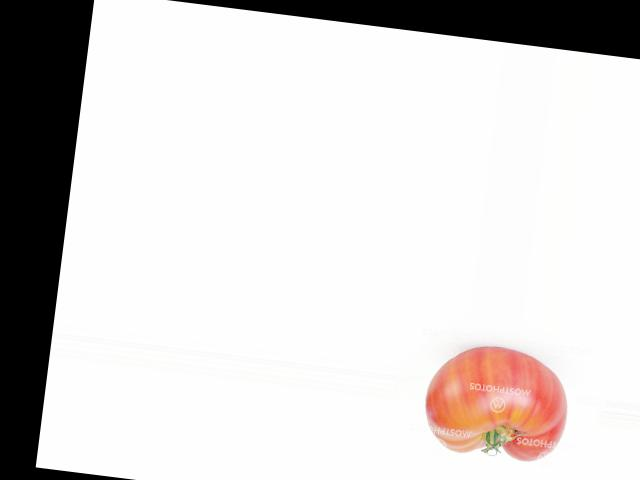tomato: (419, 339, 573, 465)
